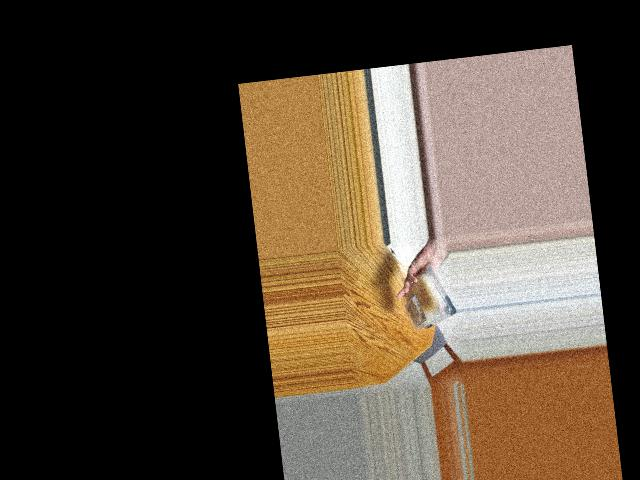cheese: (400, 270, 454, 331)
